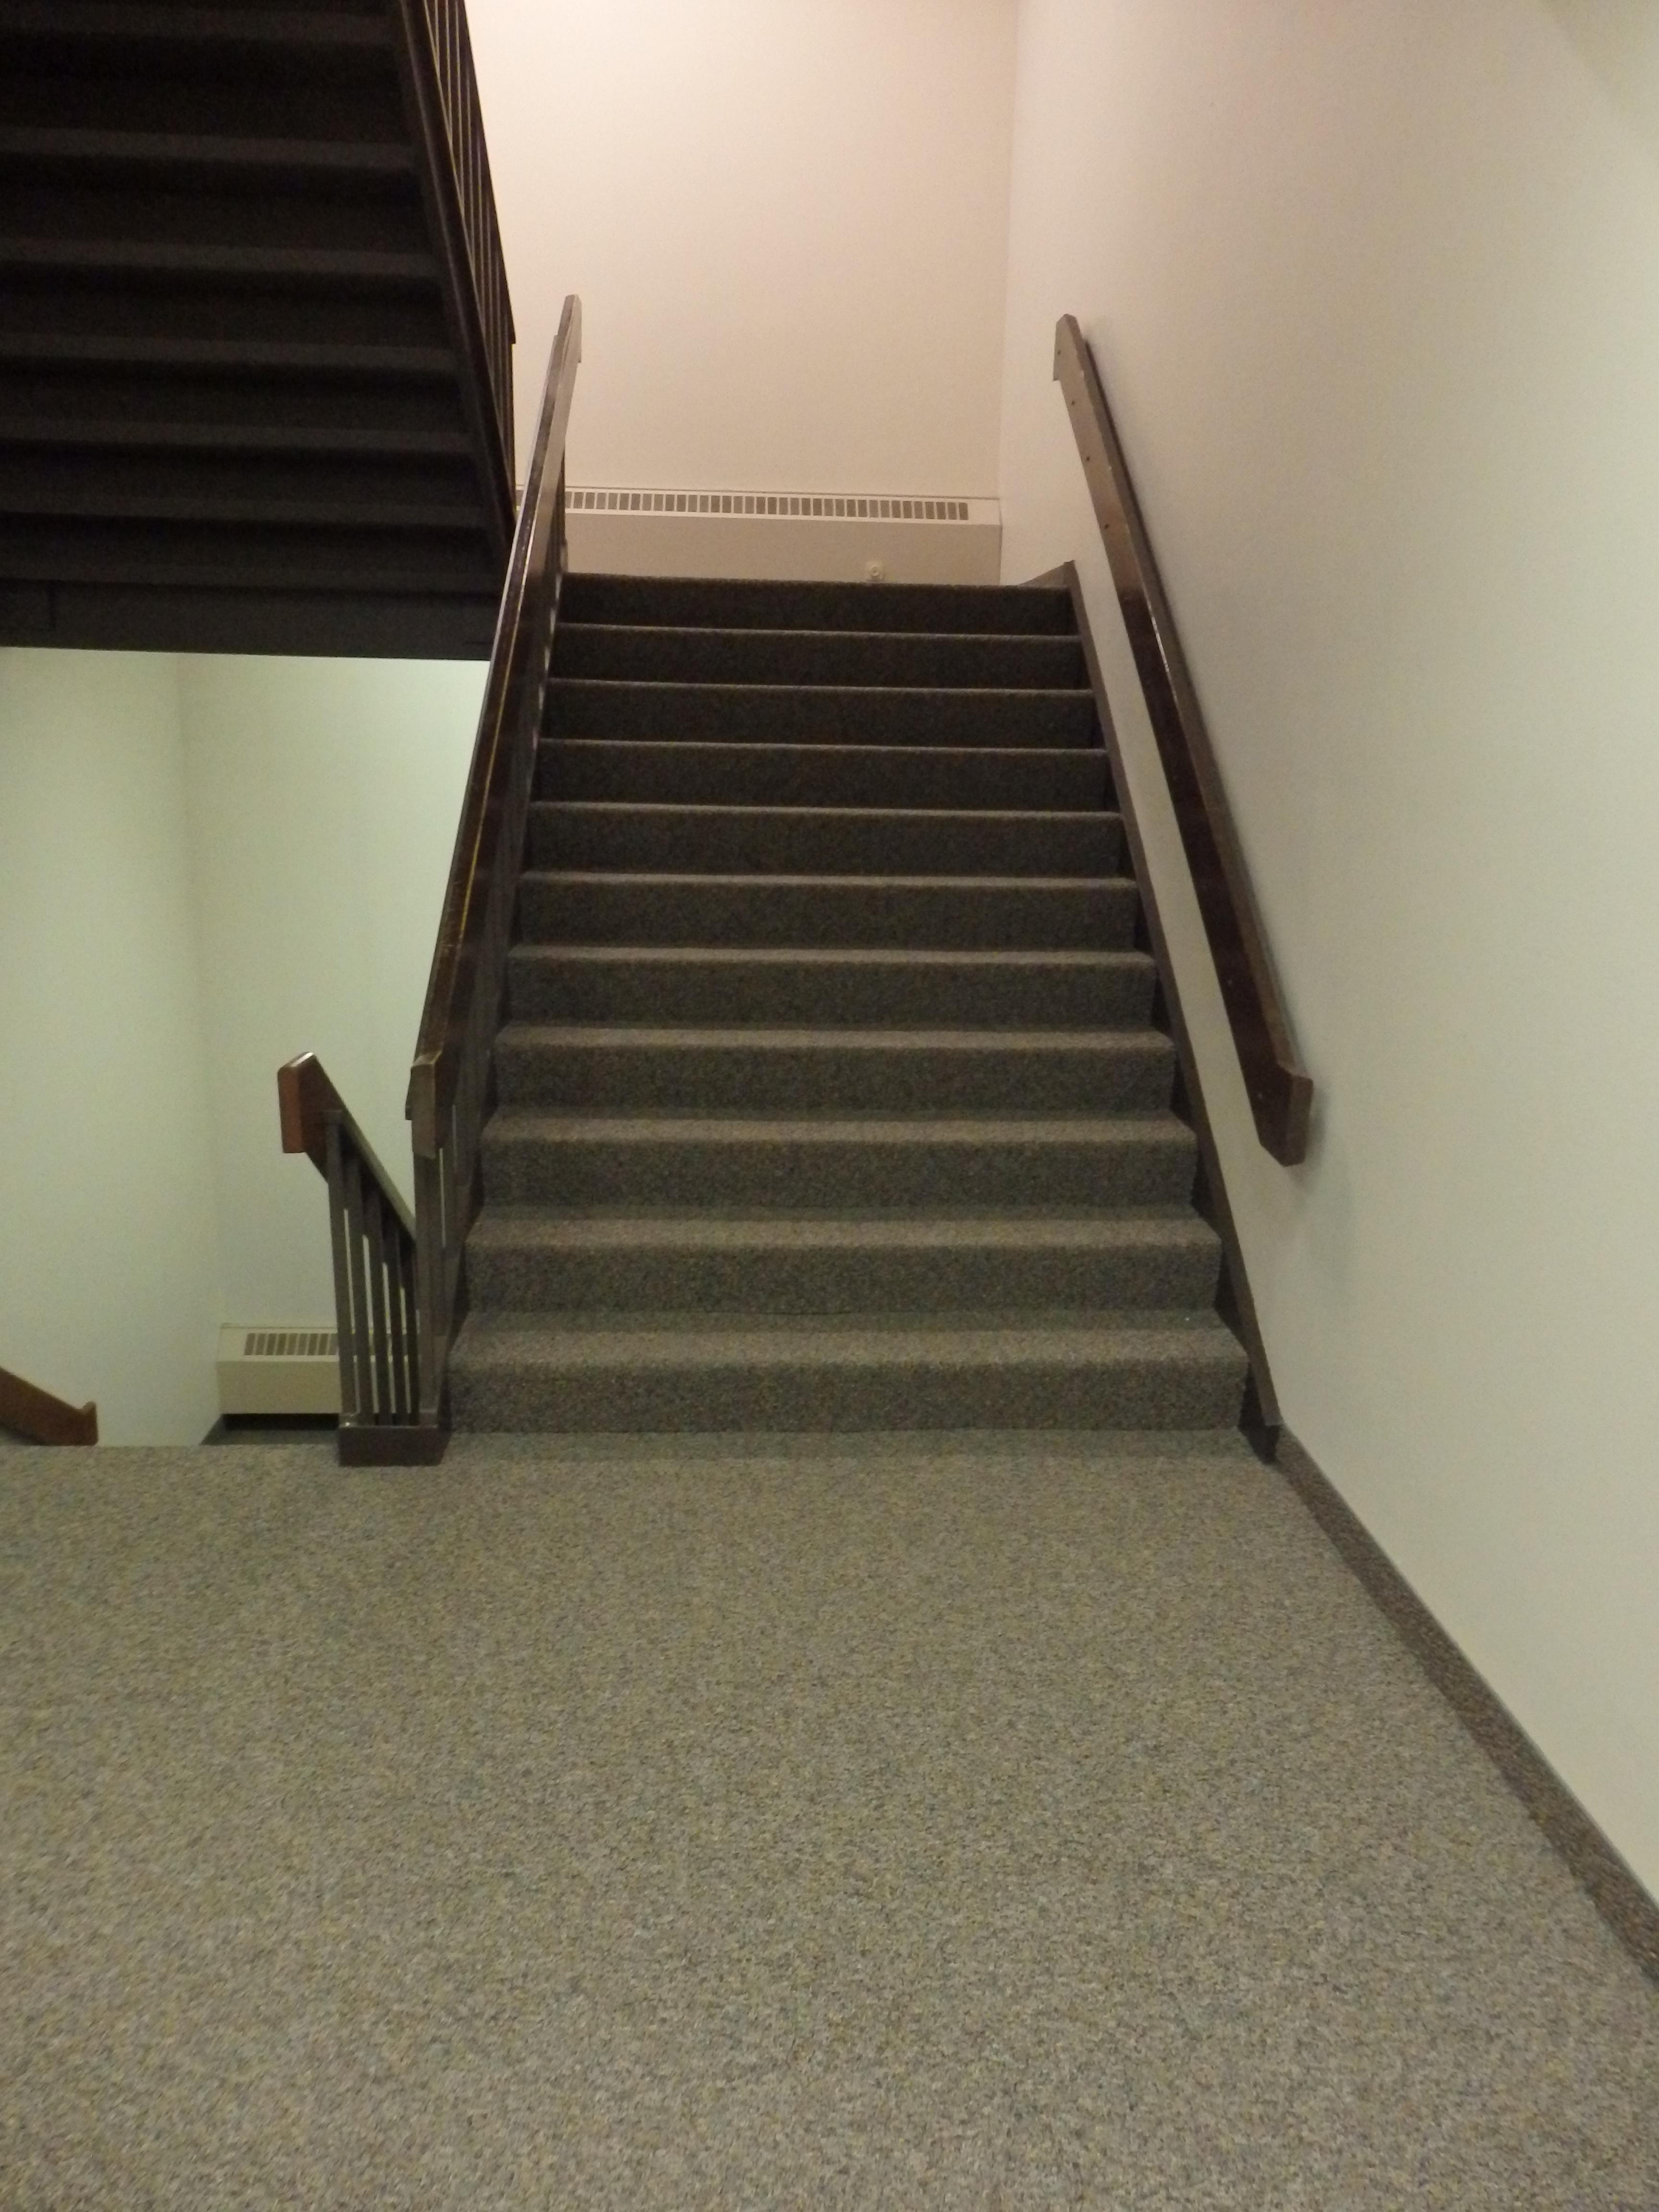stairs_up: (500, 552, 1152, 1423)
